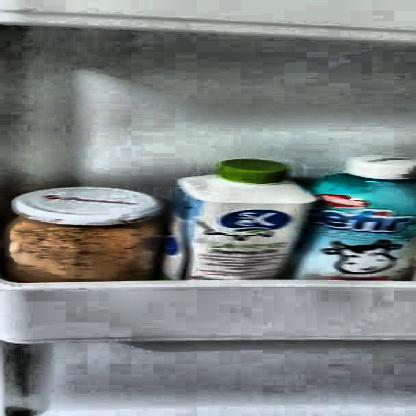milk: (164, 160, 300, 278)
